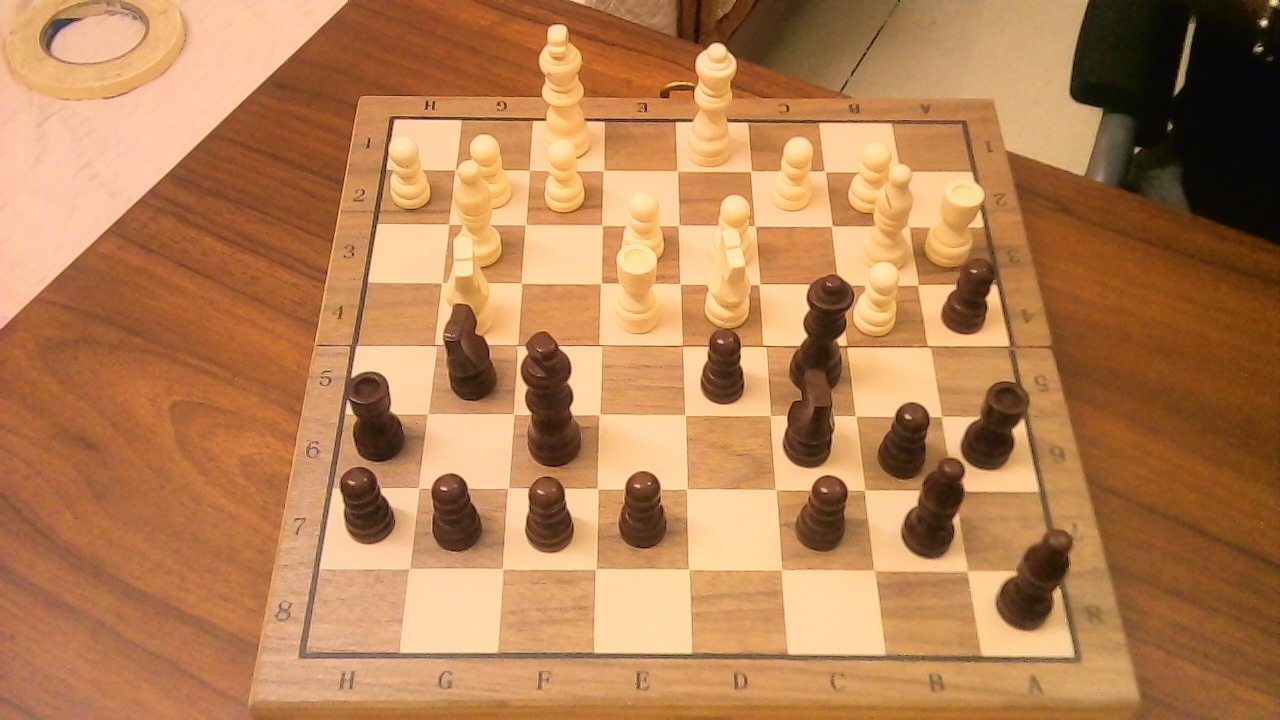B: (448, 148, 513, 271), (859, 153, 923, 274)
K: (534, 13, 597, 162)
N: (692, 238, 759, 328), (455, 231, 499, 315)
P: (610, 181, 671, 279), (764, 127, 823, 217), (459, 126, 518, 213), (535, 129, 591, 216), (382, 129, 437, 211), (857, 252, 907, 341), (705, 187, 758, 267), (848, 150, 895, 215)
Q: (681, 30, 745, 169)
R: (920, 169, 992, 272), (605, 232, 669, 340)
b: (990, 516, 1083, 636), (896, 445, 980, 564)
k: (517, 321, 594, 468)
n: (435, 287, 508, 404), (777, 383, 851, 470)
p: (332, 456, 405, 548), (421, 461, 493, 554), (788, 463, 860, 554), (937, 246, 1007, 339), (692, 318, 758, 409), (880, 400, 942, 480), (618, 470, 668, 550), (522, 477, 576, 550)
q: (779, 261, 861, 393)
r: (955, 369, 1039, 472), (342, 359, 415, 464)
